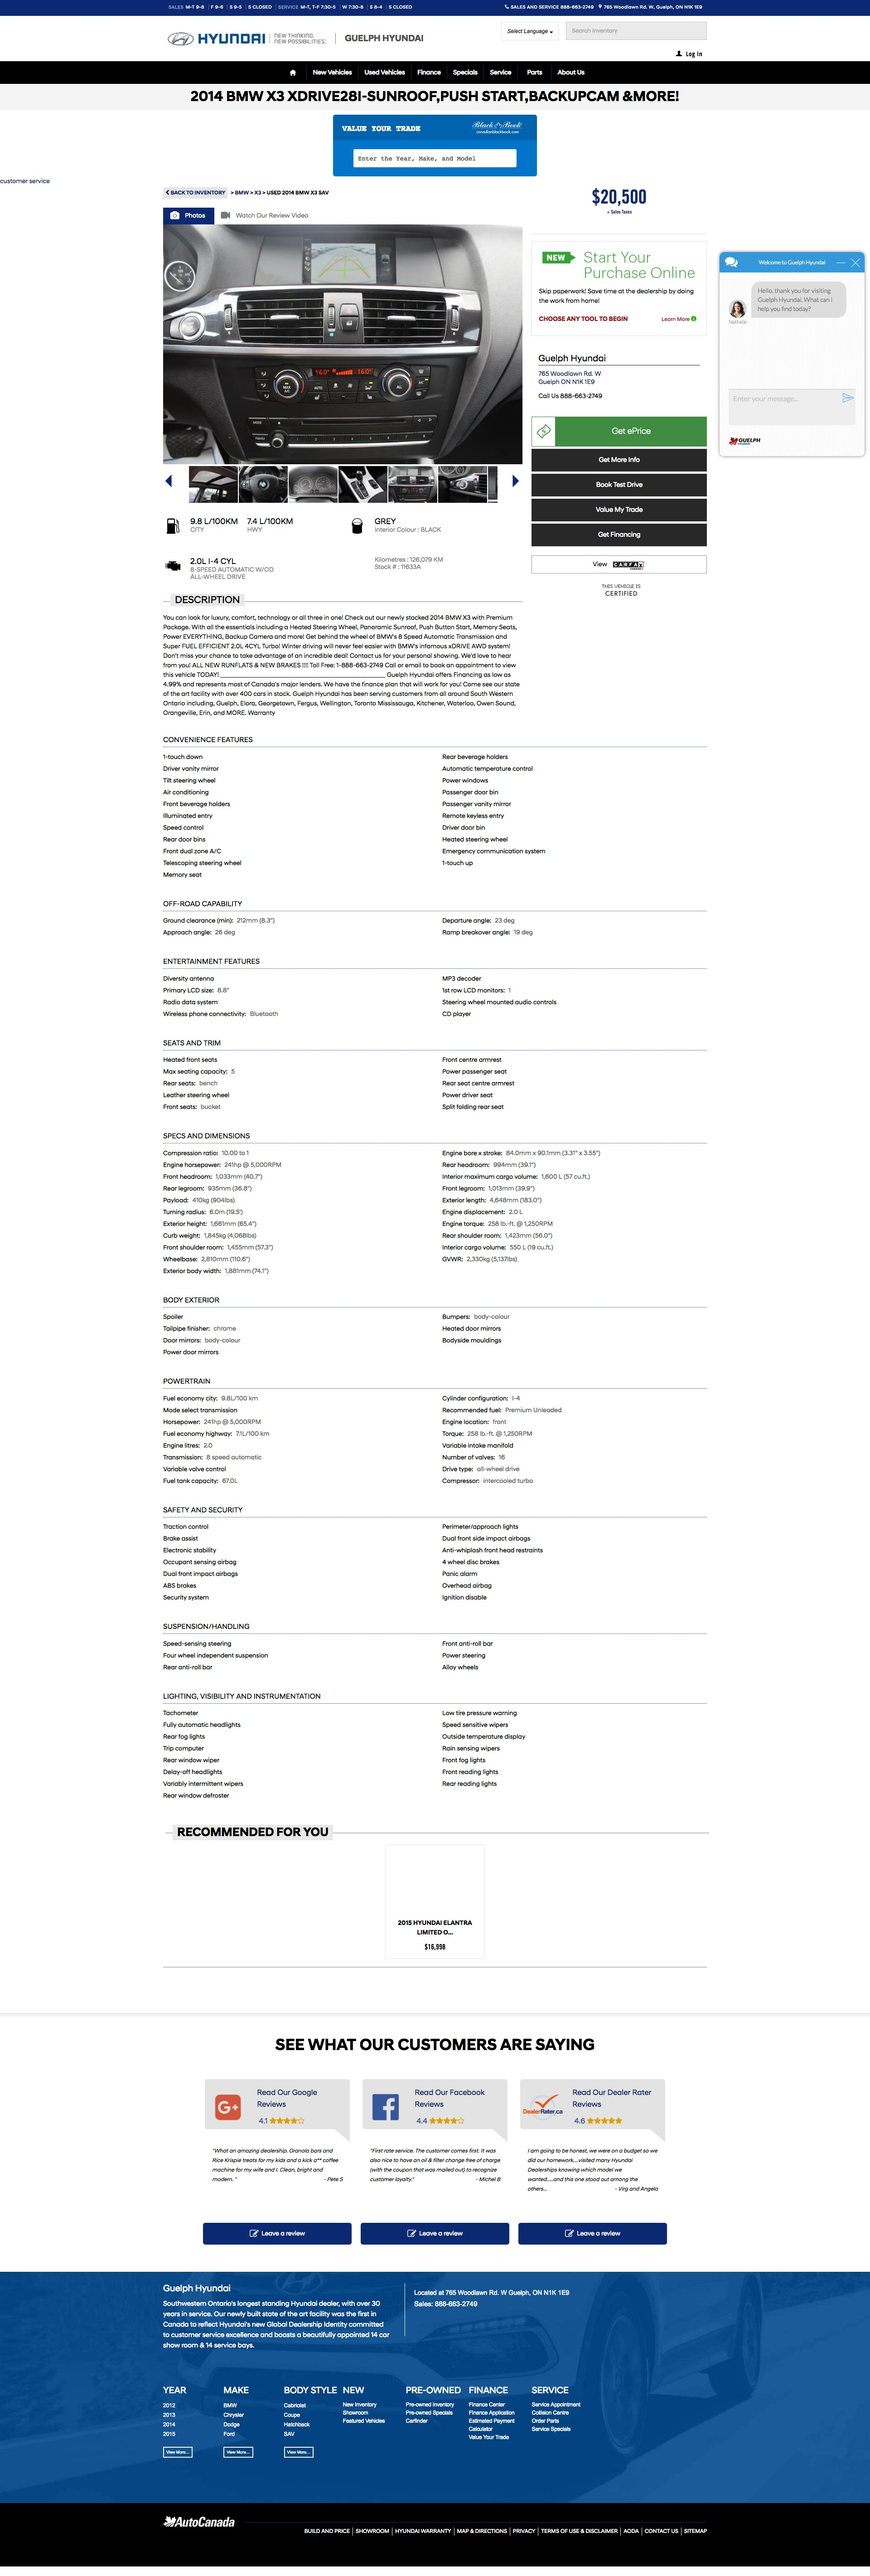car: (512, 475, 519, 488)
